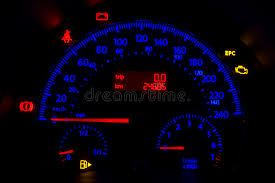Digital_Meter: (136, 81, 169, 90)
